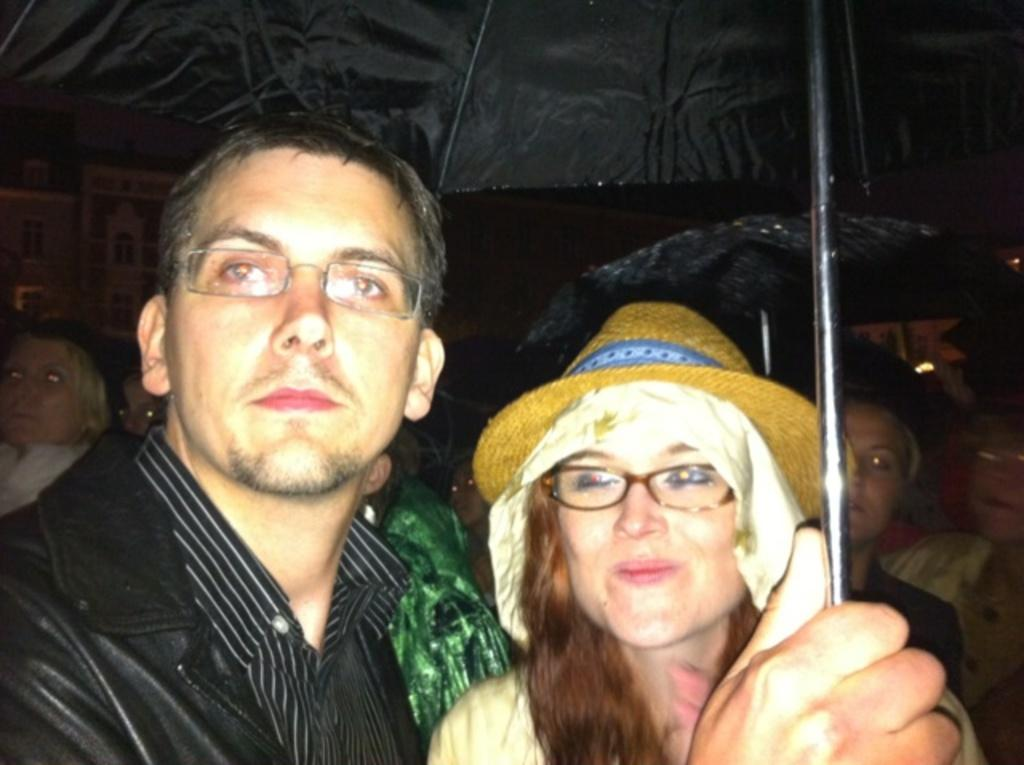Hat: (468, 300, 856, 530)
